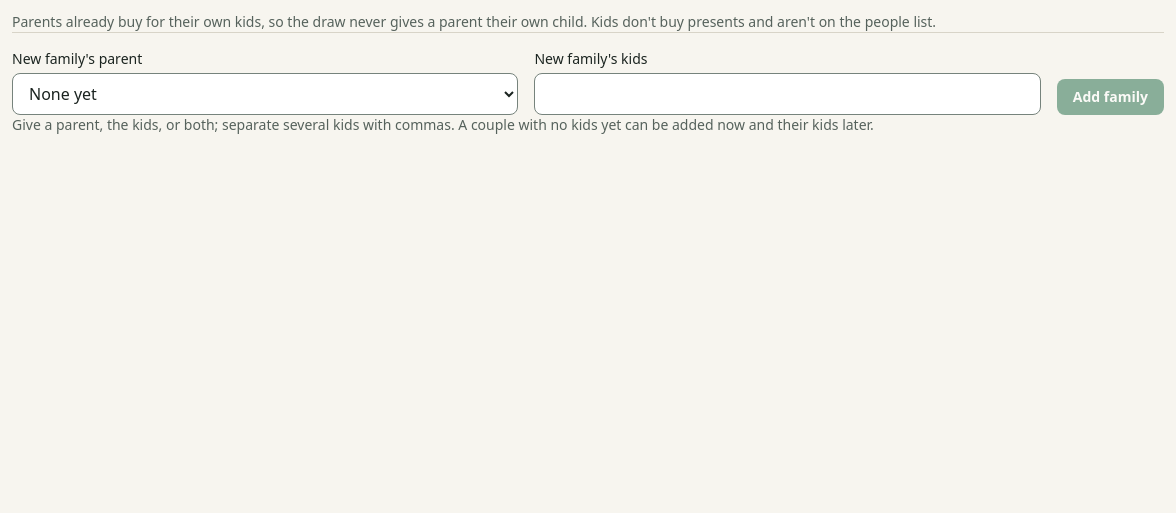
Test case: FamilyList › adds a couple with no kids yet, then their first child
The width and height of the screenshot is (1176, 513).
Later steps or results of the test are not shown.
Select "Cara" in the dropdown labelled "New family's parent". click: (265,94)
box: left=12, top=73, right=518, bottom=115
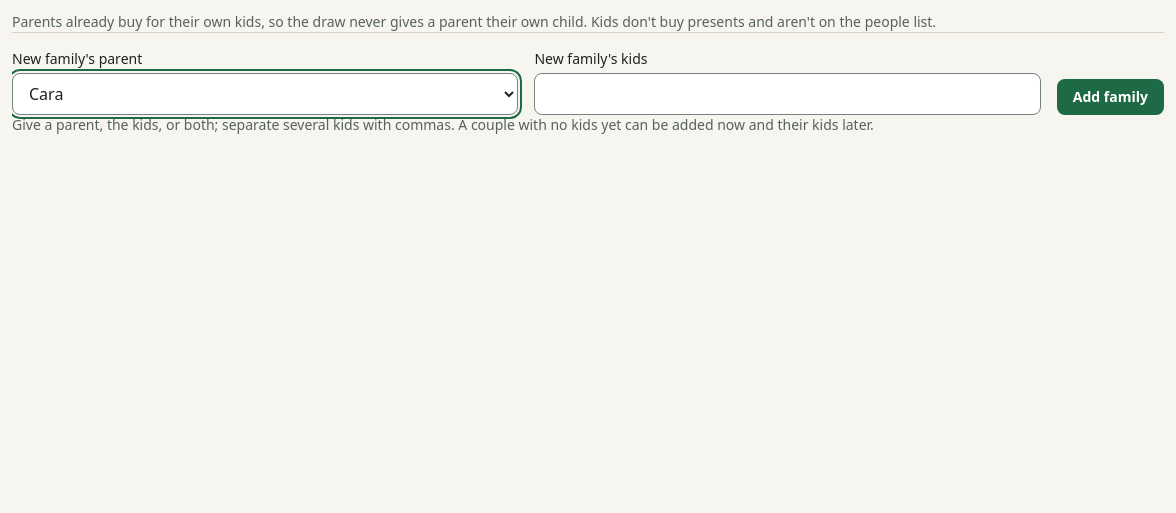
Click the button "Add family". click: (1110,97)
box: left=1057, top=79, right=1164, bottom=115
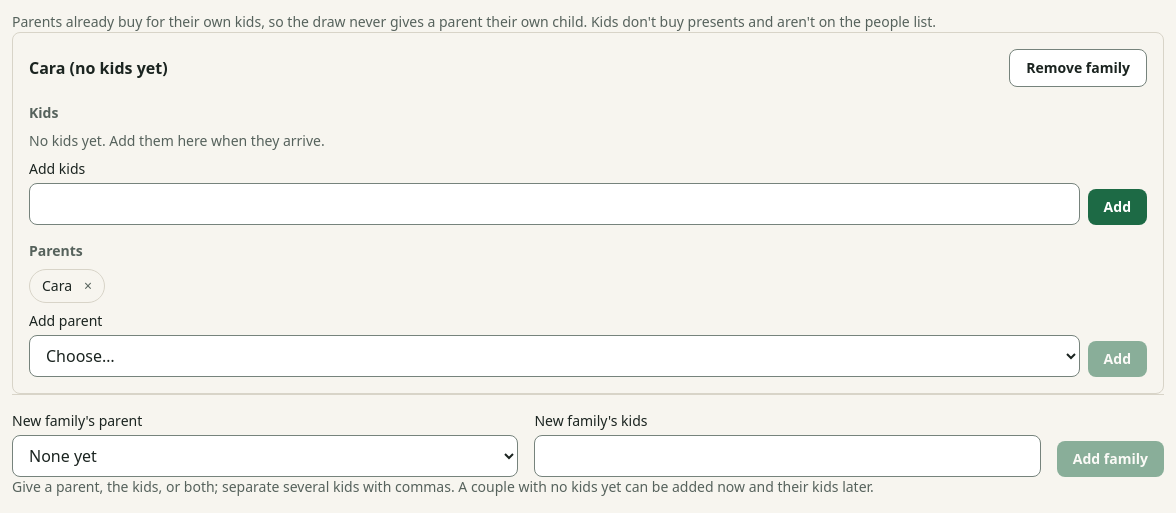
Check: the heading "Cara (no kids yet)" is shown, box left=29, top=56, right=168, bottom=80
Check: the text "No kids yet. Add them here when they arrive." is shown, box left=29, top=131, right=325, bottom=150
